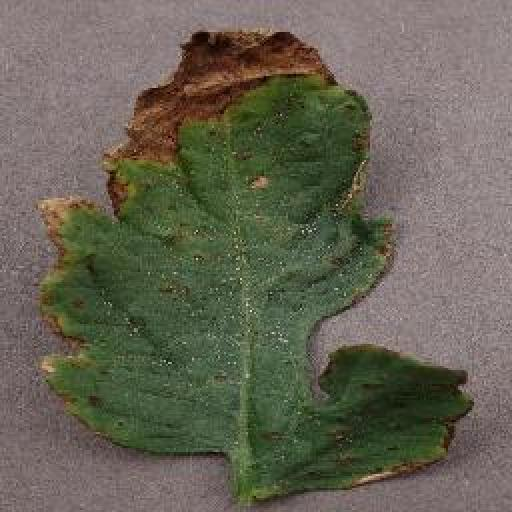Bacterial Spot: (28, 22, 476, 512)
